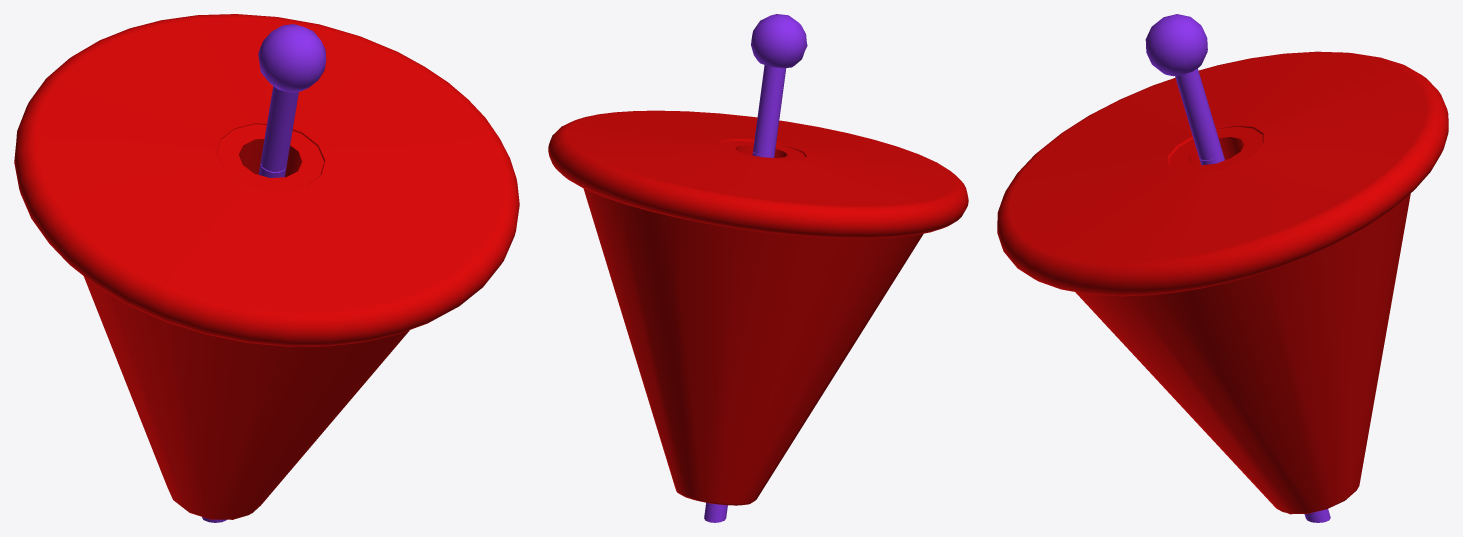
Rendered from 4045- Mini Rotador.FBX.
The picture shows the model from 3 angles, left to right: view 1: azimuth 30°, elevation 25°; view 2: azimuth 150°, elevation 25°; view 3: azimuth 270°, elevation 25°; orthographic projection. The views are drawn at different scales.
Bounding box in the file's own units: 18.84 × 22.33 × 18.23.
